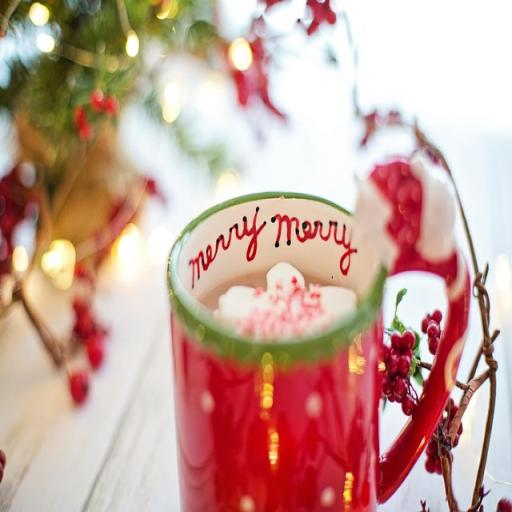cup: (167, 190, 469, 512)
